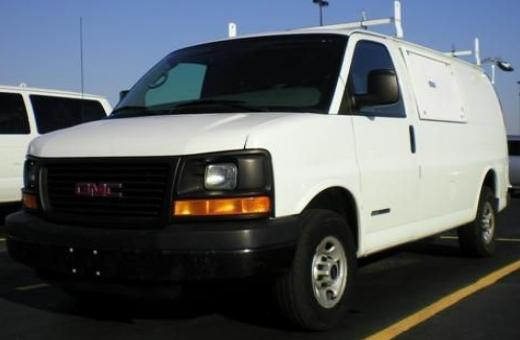front_view: (23, 144, 288, 297)
headlight: (167, 142, 275, 234)
side_glass: (341, 39, 468, 131)
